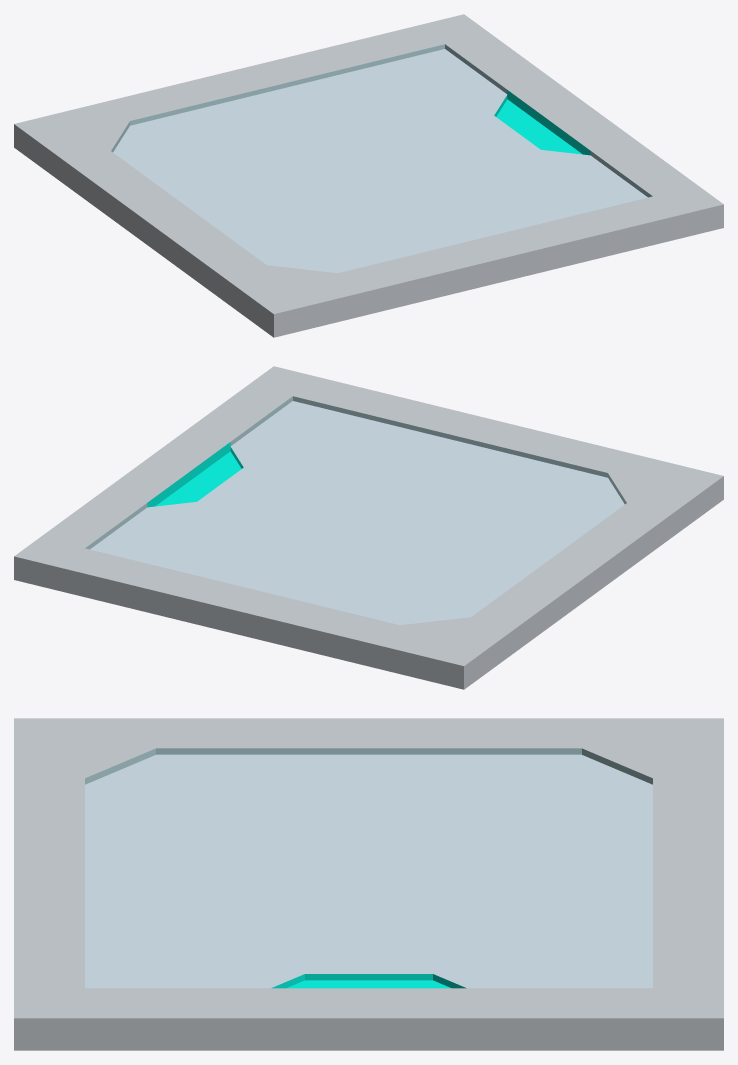
Rendered from floor-04.fbx.
The picture shows the model from 3 angles, top to bottom: view 1: azimuth 30°, elevation 25°; view 2: azimuth 150°, elevation 25°; view 3: azimuth 270°, elevation 25°; orthographic projection. The views are drawn at different scales.
Visible parts, largest first — view 1: floor-04; view 2: floor-04; view 3: floor-04.
Boxes of the visible parts, x1,y1,x2,y2 form: floor-04: (14, 14, 723, 337); floor-04: (14, 366, 723, 689); floor-04: (14, 718, 723, 1050).
Size of the model in its own units: 100 by 5 by 100.
